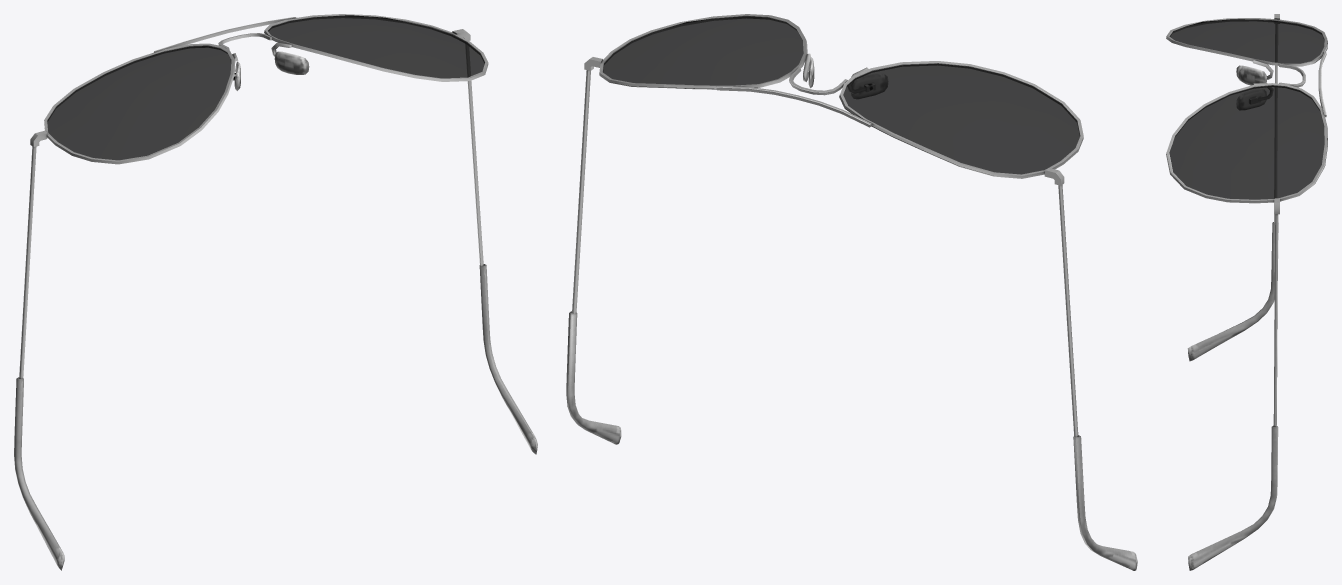
The picture shows the model from 3 angles, left to right: view 1: azimuth 30°, elevation 25°; view 2: azimuth 150°, elevation 25°; view 3: azimuth 270°, elevation 25°; orthographic projection. The views are drawn at different scales.
Visible parts, largest first — view 1: roshan1, roshan2; view 2: roshan1, roshan2; view 3: roshan1, roshan2.
Part boxes in pixels (x1,y1,x2,y2): roshan1: (47, 15, 484, 160); roshan2: (14, 14, 537, 570); roshan1: (603, 16, 1080, 174); roshan2: (566, 14, 1137, 570); roshan1: (1169, 19, 1327, 199); roshan2: (1166, 14, 1327, 570).
Bounding box in the file's own units: 155 × 135 × 50.19.
2 materials, 1 textured.
